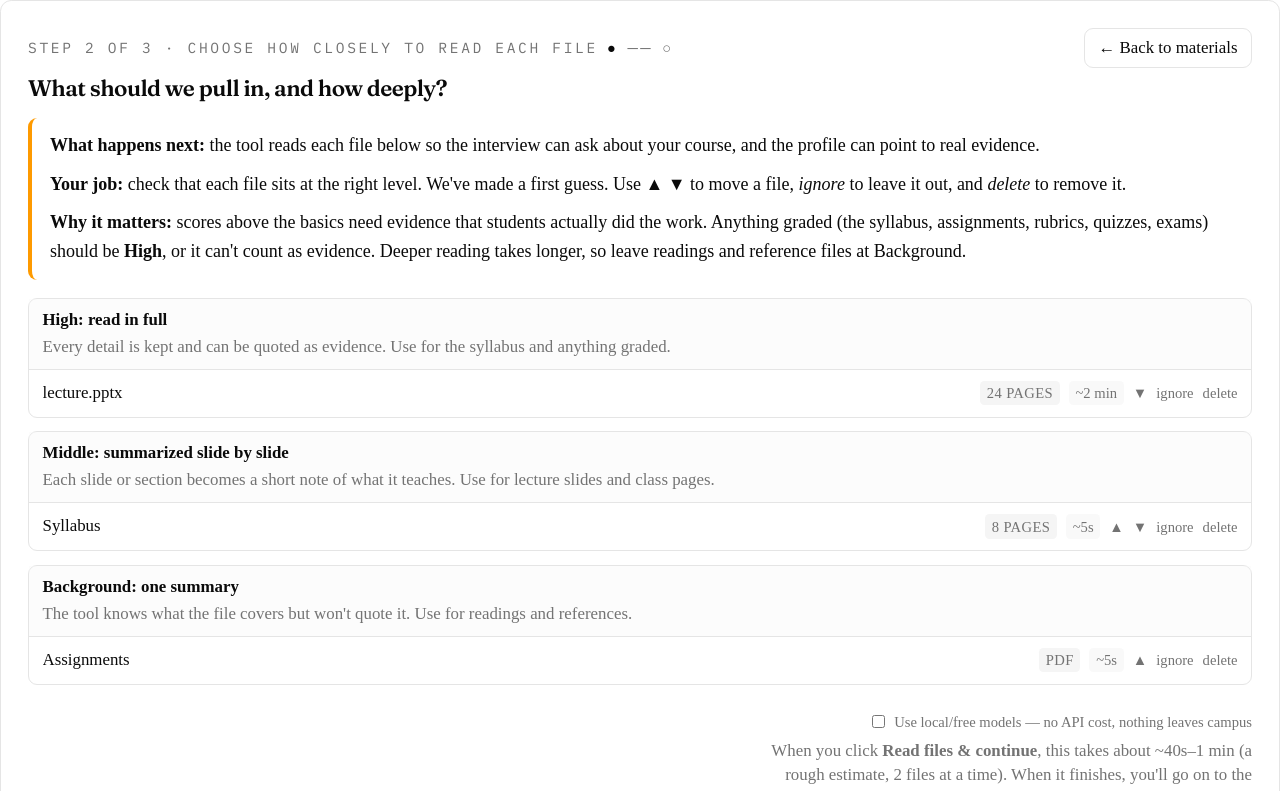
Test: TriageStep › resets pendingDelete to false on a FAILED delete (no stuck confirm)
# Enter confirm state
Click the button "delete" in the row of "~2 min". click: (1220,393)
box: left=1203, top=383, right=1238, bottom=403
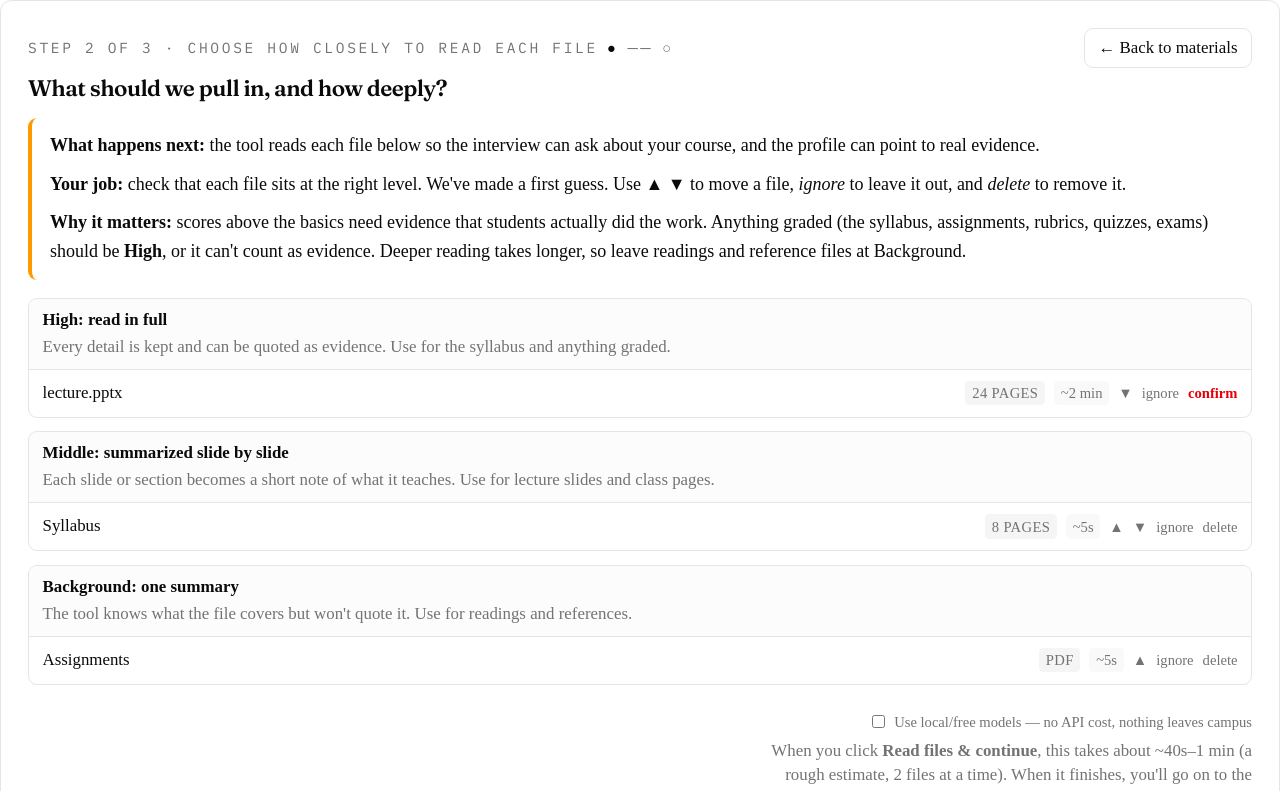
# Now in confirm state — click confirm
Click the button "confirm". click: (1213,393)
box: left=1188, top=383, right=1238, bottom=403
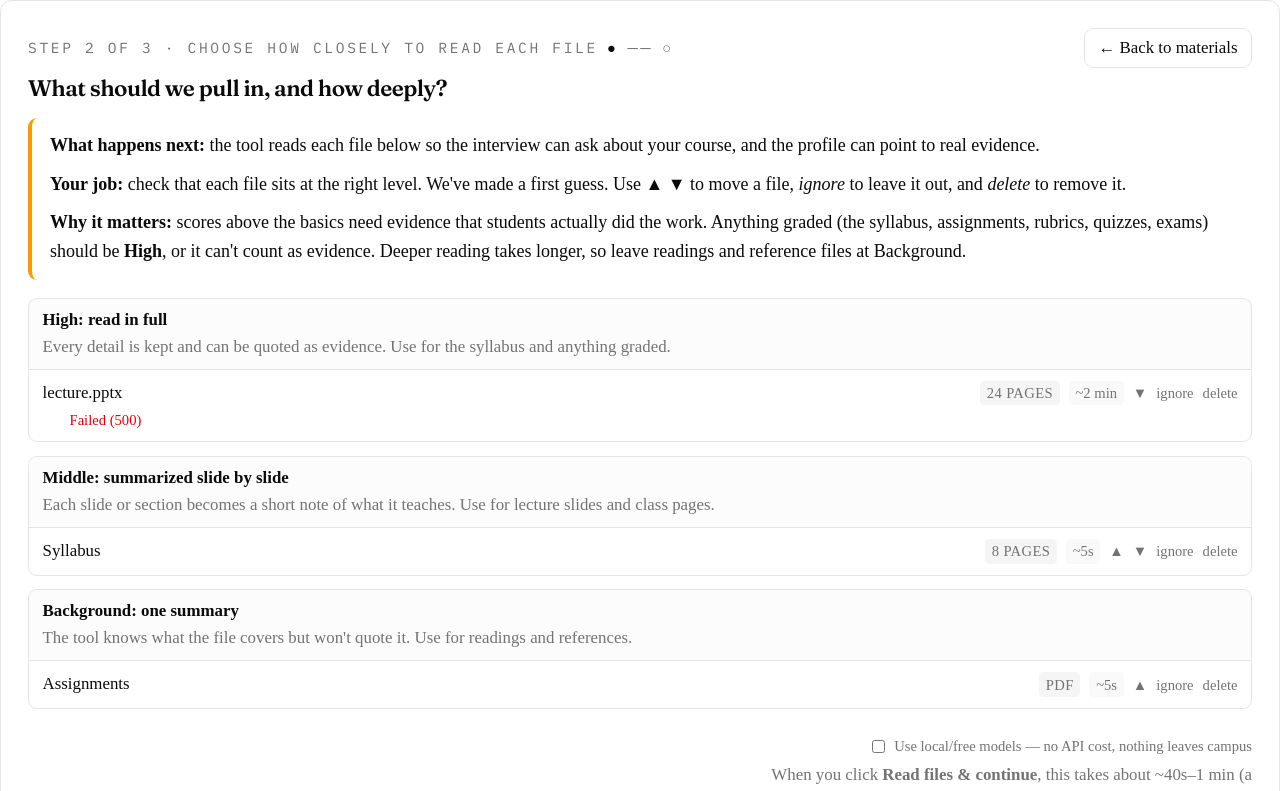
Now the button "confirm" is gone
Now the text "Failed (500)" is shown, box left=70, top=412, right=141, bottom=428
